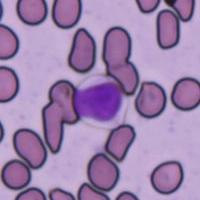L: (72, 75, 128, 126)
